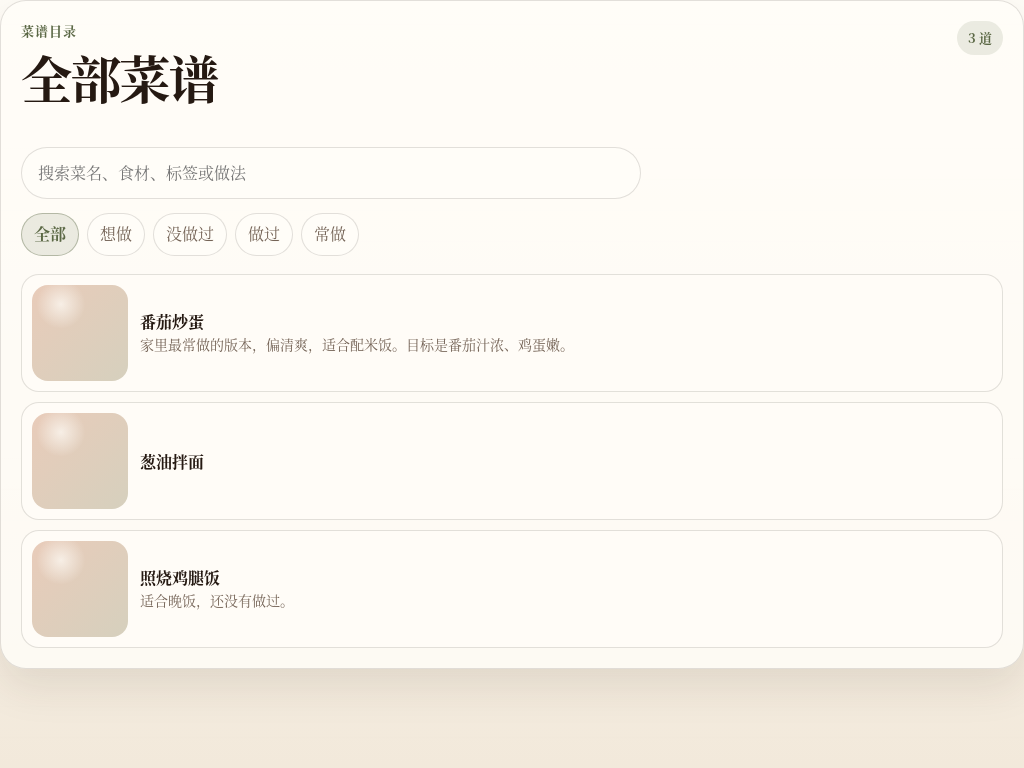
it: AllRecipesView › filters recipes by want-to-make and familiarity
Click the button with test id "filter-want": (116, 235) x1=87 y1=213 x2=145 y2=256
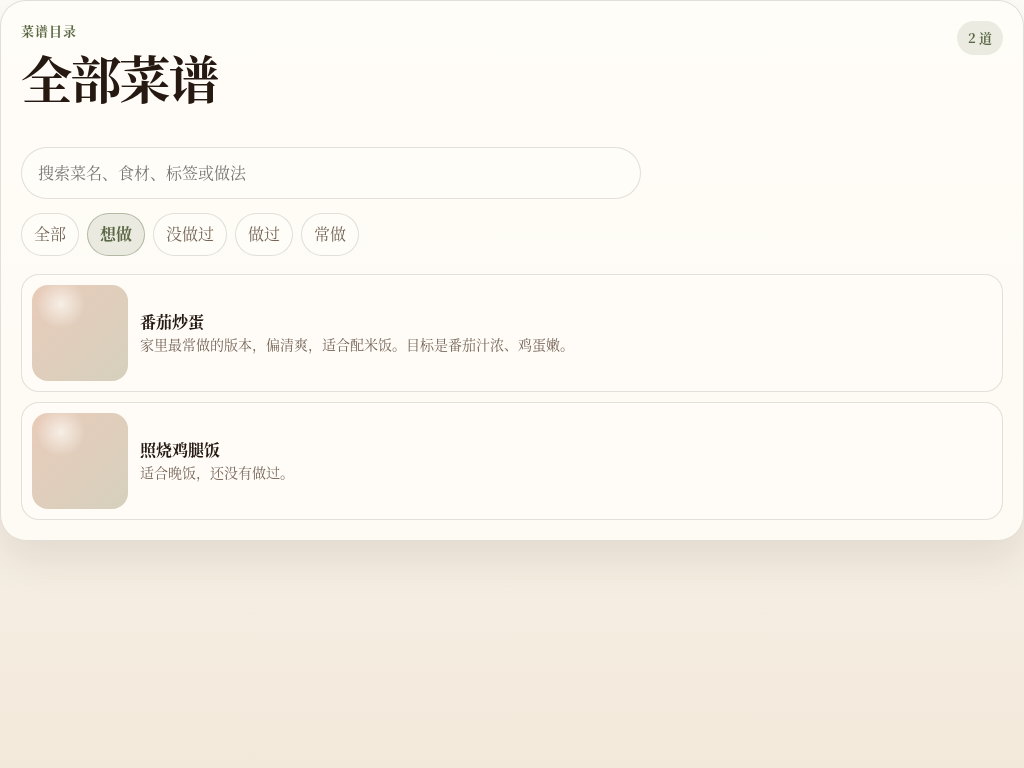
expect the text "番茄炒蛋" is shown: met, box x1=140 y1=310 x2=204 y2=333
expect the text "葱油拌面" is gone: met
Click the button with test id "filter-new": (190, 235) x1=153 y1=213 x2=227 y2=256
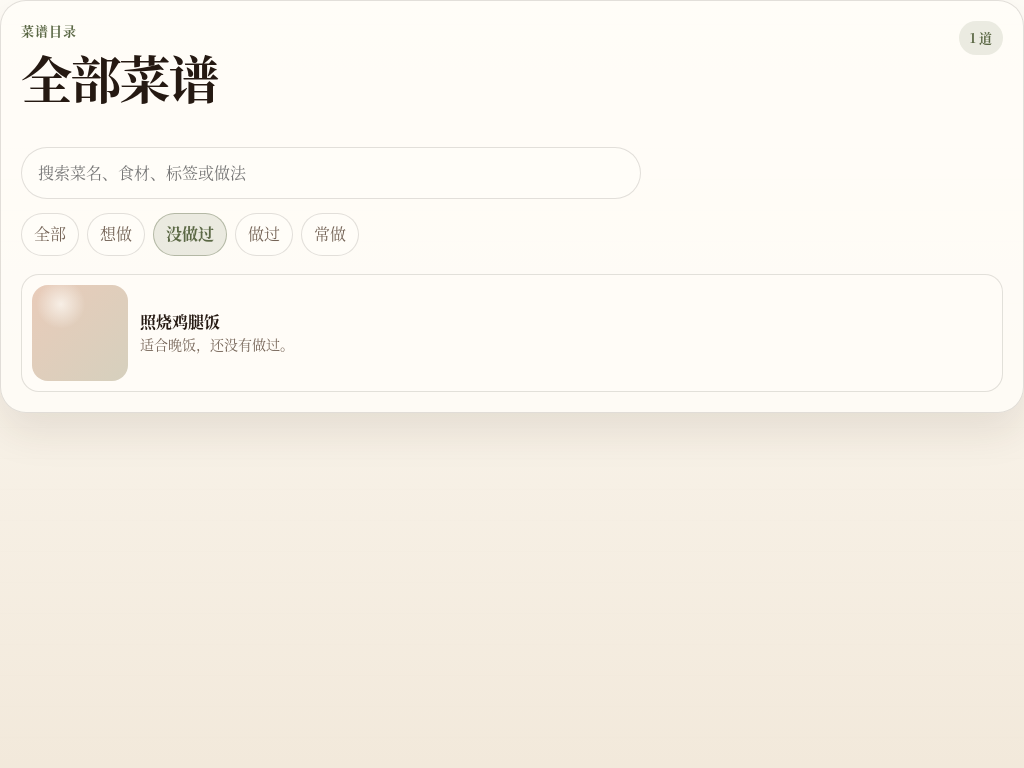
expect the text "照烧鸡腿饭" is shown: met, box x1=140 y1=310 x2=220 y2=333
expect the text "番茄炒蛋" is gone: met
